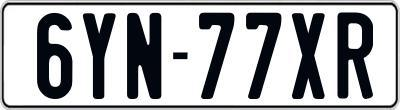6: (34, 10, 69, 99)
7: (198, 10, 237, 102), (244, 12, 280, 104)
N: (127, 13, 165, 102)
R: (337, 12, 373, 101)
X: (292, 12, 326, 102)
Y: (81, 11, 117, 102)
